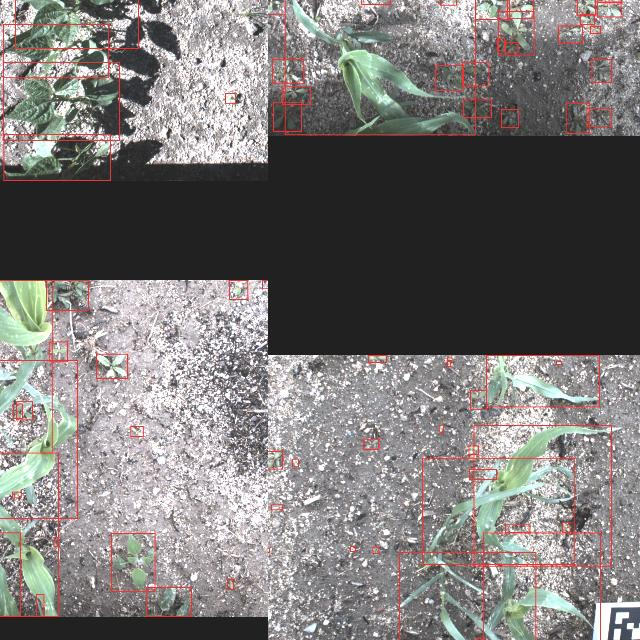crop: (284, 0, 475, 134), (474, 424, 610, 566), (483, 532, 600, 640), (0, 360, 77, 518), (0, 452, 58, 616), (3, 62, 119, 140), (0, 279, 51, 452), (486, 354, 600, 406), (15, 0, 138, 48), (3, 24, 108, 78), (4, 134, 110, 180), (0, 532, 20, 616), (36, 594, 44, 616)
weed: (422, 458, 574, 564), (399, 552, 536, 640), (111, 533, 155, 591), (498, 11, 534, 55), (146, 588, 192, 616), (46, 279, 88, 309), (272, 102, 302, 130), (96, 352, 128, 378), (272, 59, 304, 83), (436, 64, 464, 90), (566, 103, 590, 133), (476, 0, 510, 19), (463, 62, 489, 86), (282, 86, 310, 104), (463, 99, 491, 117), (592, 58, 612, 82), (586, 108, 612, 126), (507, 0, 533, 18), (558, 26, 582, 42), (228, 280, 248, 298), (50, 341, 68, 361), (597, 2, 621, 16), (501, 109, 519, 127), (470, 389, 486, 408), (16, 401, 32, 419), (577, 0, 595, 15), (469, 469, 496, 479), (268, 450, 282, 468), (268, 0, 285, 13), (505, 524, 529, 532), (368, 354, 386, 362), (580, 14, 594, 24), (364, 438, 378, 448), (14, 402, 22, 418), (506, 42, 518, 52), (131, 426, 143, 436), (226, 93, 236, 103), (469, 444, 479, 454), (562, 522, 570, 532), (498, 38, 504, 50), (590, 26, 600, 32), (227, 579, 233, 589), (12, 491, 22, 497), (272, 504, 282, 510), (597, 0, 621, 2), (262, 280, 268, 288), (292, 458, 298, 466), (54, 536, 58, 546), (373, 547, 379, 553), (439, 424, 443, 432), (350, 546, 356, 550), (556, 361, 562, 364), (448, 360, 450, 366), (448, 356, 452, 359)
